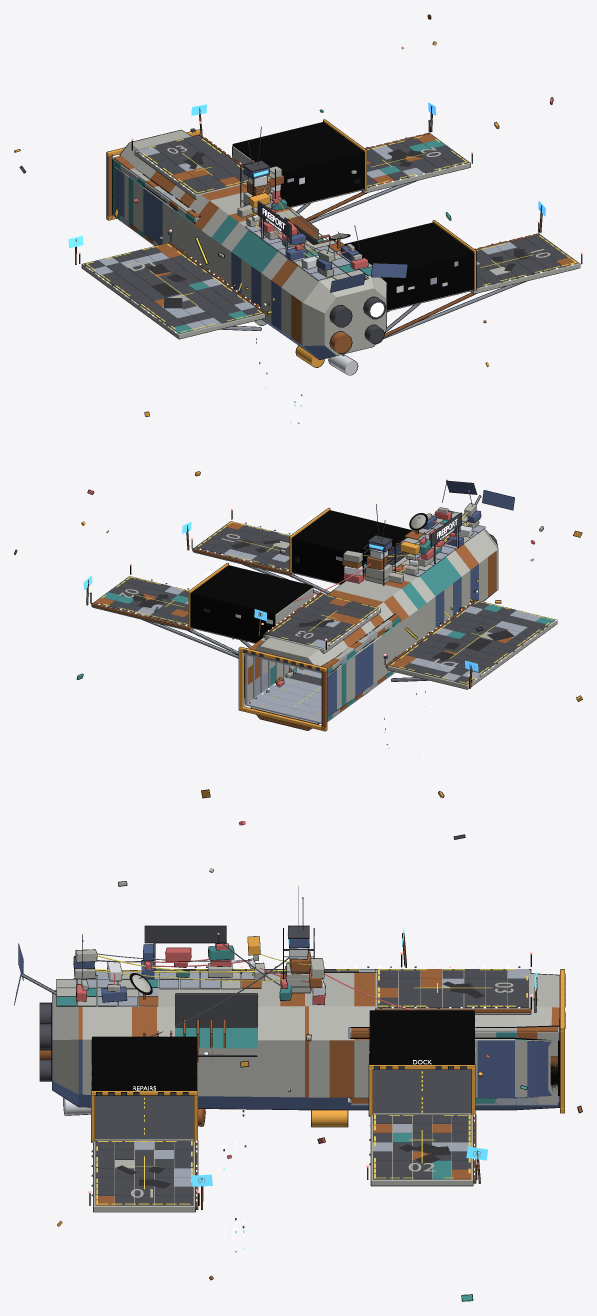
Rendered from Station_Freeport.fbx.
3 renders of one model, top to bottom at view 1: azimuth 30°, elevation 25°; view 2: azimuth 150°, elevation 25°; view 3: azimuth 270°, elevation 25°, orthographic. The views are drawn at different scales.
Visible parts, largest first — view 1: Hulk_Hull, PadD1_Tiles, Shed_B, Shed_A, Pad03_Tiles, Pad01_Tiles, Pad02_Tiles, Deck_Top, HangarD_Lining, PadD1_Slab, Pad01_Slab, Pad02_Slab (+2 smaller); view 2: Hulk_Hull, Shed_B, PadD1_Tiles, HangarD_Lining, Shed_A, Pad03_Tiles, Pad02_Tiles, Pad01_Tiles, Mouth_Frame, PadD1_Slab, Deck_Top, HangarD_Ribs (+8 smaller); view 3: Hulk_Hull, Shed_A, Shed_B, Pad02_Tiles, Pad01_Tiles, Pad03_Tiles, Shed_B_Inside, Shed_A_Inside, Deck_Top, Ribs_Exposed, HangarD_Lining, Neon_F_Board (+7 smaller).
Part boxes in pixels (x1,y1,x2,y2): Hulk_Hull: (112, 129, 386, 359); PadD1_Tiles: (84, 243, 263, 333); Shed_B: (232, 122, 364, 207); Shed_A: (344, 222, 474, 311); Pad03_Tiles: (137, 135, 248, 194); Pad01_Tiles: (476, 234, 577, 287); Pad02_Tiles: (366, 134, 468, 187); Deck_Top: (245, 225, 372, 280); HangarD_Lining: (112, 155, 199, 245); PadD1_Slab: (81, 243, 265, 339); Pad01_Slab: (470, 234, 580, 293); Pad02_Slab: (361, 133, 470, 193); Hulk_Hull: (244, 529, 498, 730); Shed_B: (190, 565, 313, 643); PadD1_Tiles: (389, 600, 554, 684); HangarD_Lining: (244, 614, 400, 723); Shed_A: (291, 510, 412, 584); Pad03_Tiles: (268, 594, 378, 648); Pad02_Tiles: (94, 576, 188, 625); Pad01_Tiles: (195, 521, 289, 570); Mouth_Frame: (238, 646, 327, 731); PadD1_Slab: (387, 600, 557, 689); Deck_Top: (393, 510, 485, 577); HangarD_Ribs: (245, 653, 321, 703); Hulk_Hull: (52, 972, 559, 1110); Shed_A: (91, 1036, 197, 1140); Shed_B: (369, 1010, 475, 1114); Pad02_Tiles: (373, 1114, 471, 1179); Pad01_Tiles: (95, 1140, 193, 1205); Pad03_Tiles: (377, 969, 528, 1007); Shed_B_Inside: (373, 1069, 471, 1113); Shed_A_Inside: (95, 1096, 193, 1139); Deck_Top: (56, 970, 261, 1006); Ribs_Exposed: (143, 993, 257, 1062); HangarD_Lining: (350, 1026, 557, 1105); Neon_F_Board: (144, 925, 226, 943).
Bounding box in the file's own units: 352 × 198 × 277.
